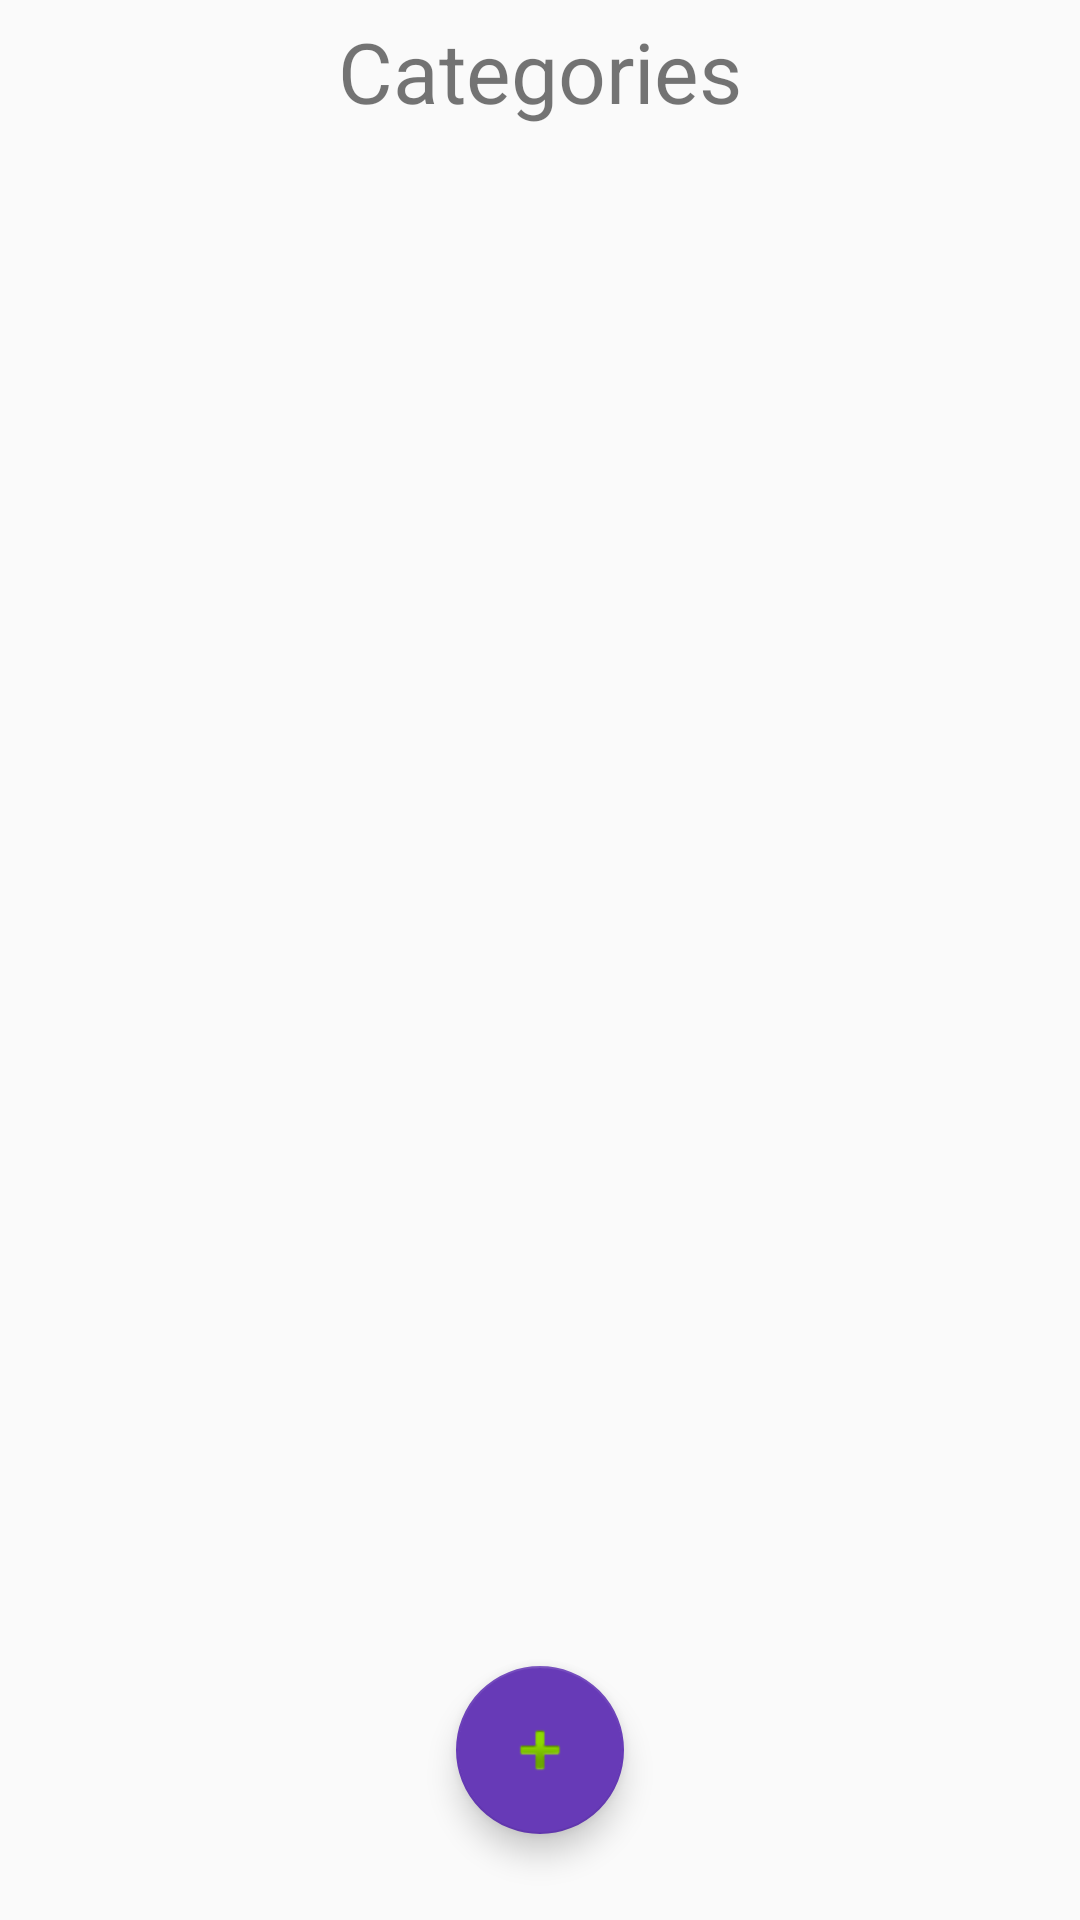

Locate icon controls on the screen. Image size 1080px×1920px, boxes as [x1,y1,x2,y2].
add: [456,1666,624,1834]
